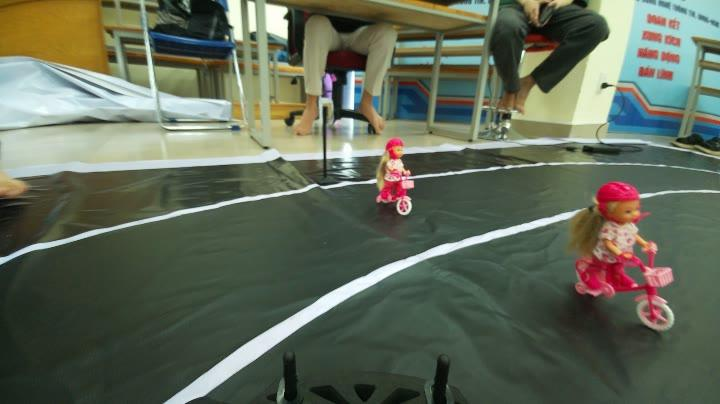pedestrian: (574, 178, 684, 332), (376, 134, 420, 206)
